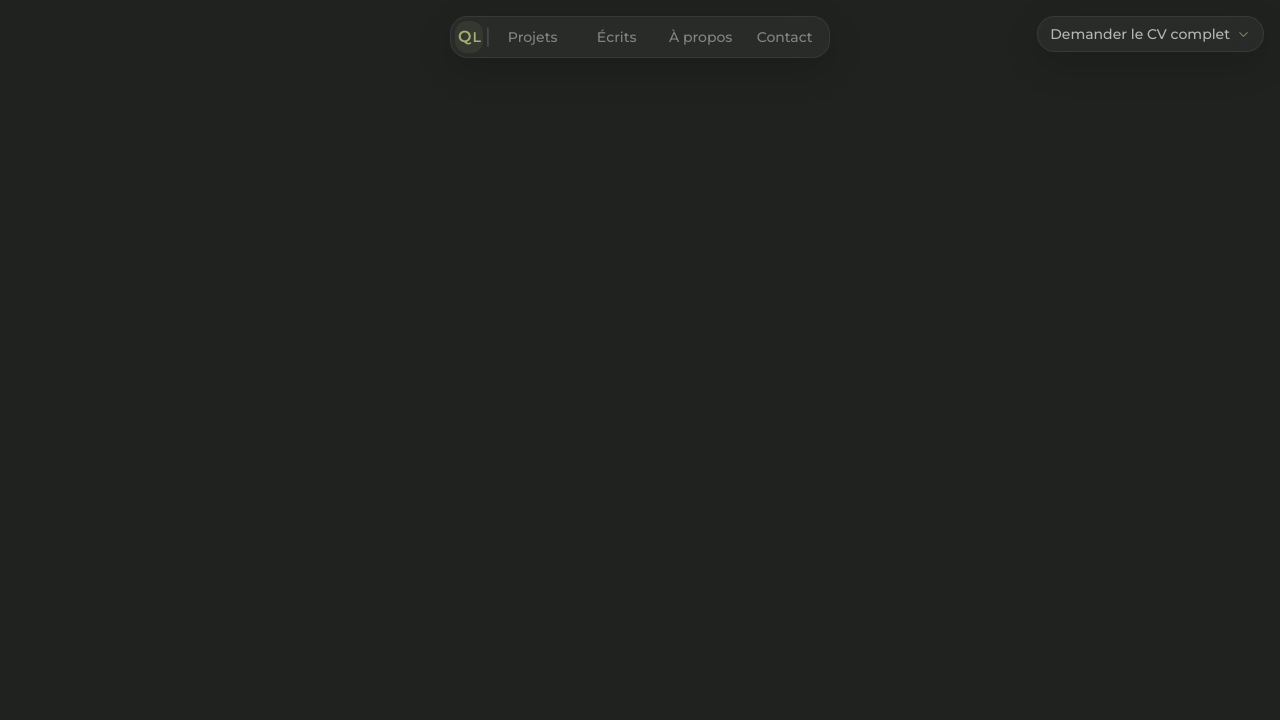
Test: Topbar › opens the private resume request form
What coordinates should you click on to do the following:
click the button "Demander le CV complet"
I would click on:
 (1151, 34)
Its box is [1037, 16, 1264, 52].
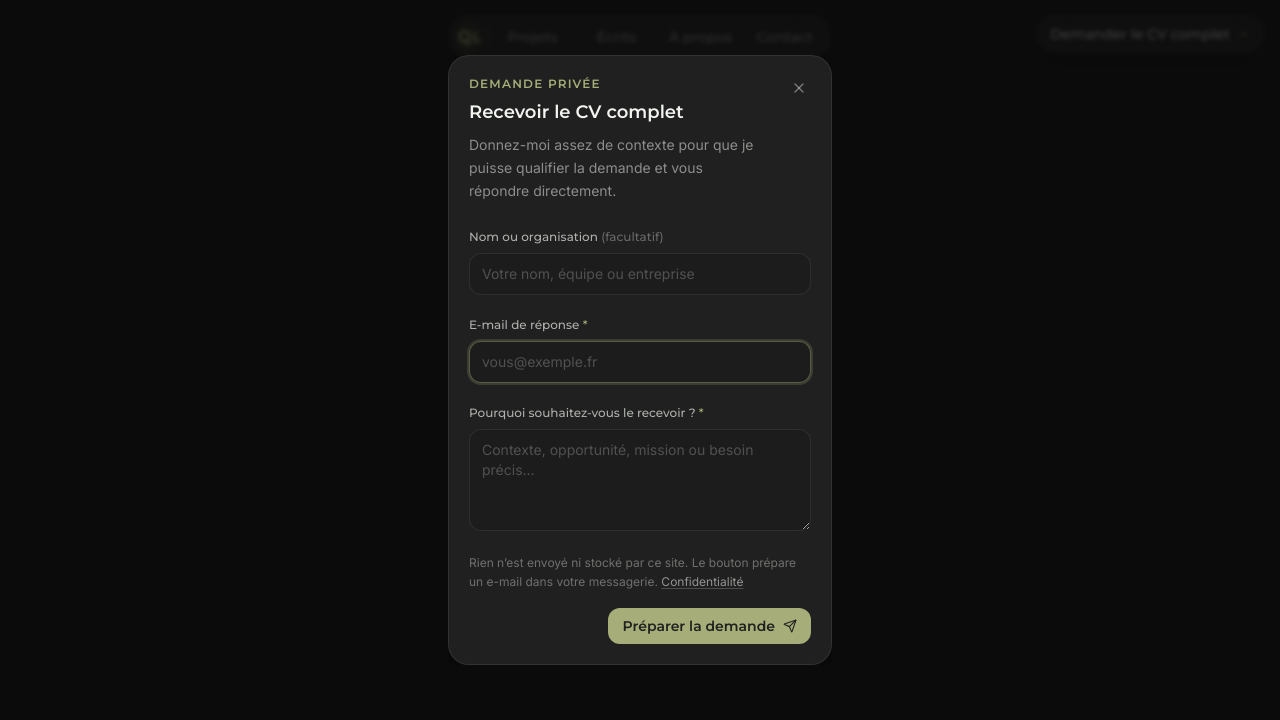
Now the button "Demander le CV complet" is expanded, box [1037, 16, 1264, 52]
Now the dialog "Recevoir le CV complet" is shown, box [448, 55, 832, 665]
